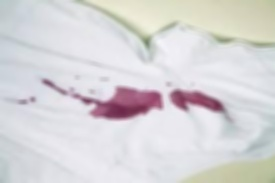wine: (89, 84, 163, 122), (171, 91, 232, 117), (39, 81, 98, 101), (11, 98, 34, 111), (93, 73, 110, 84), (67, 74, 81, 86), (186, 76, 198, 89), (161, 80, 174, 88)
